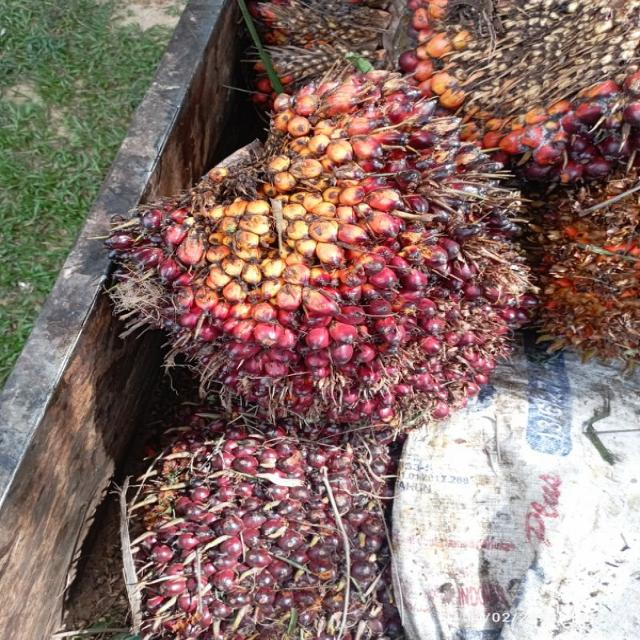fraksi 00: (43, 416, 408, 617)
fraksi 3: (61, 31, 555, 459)
